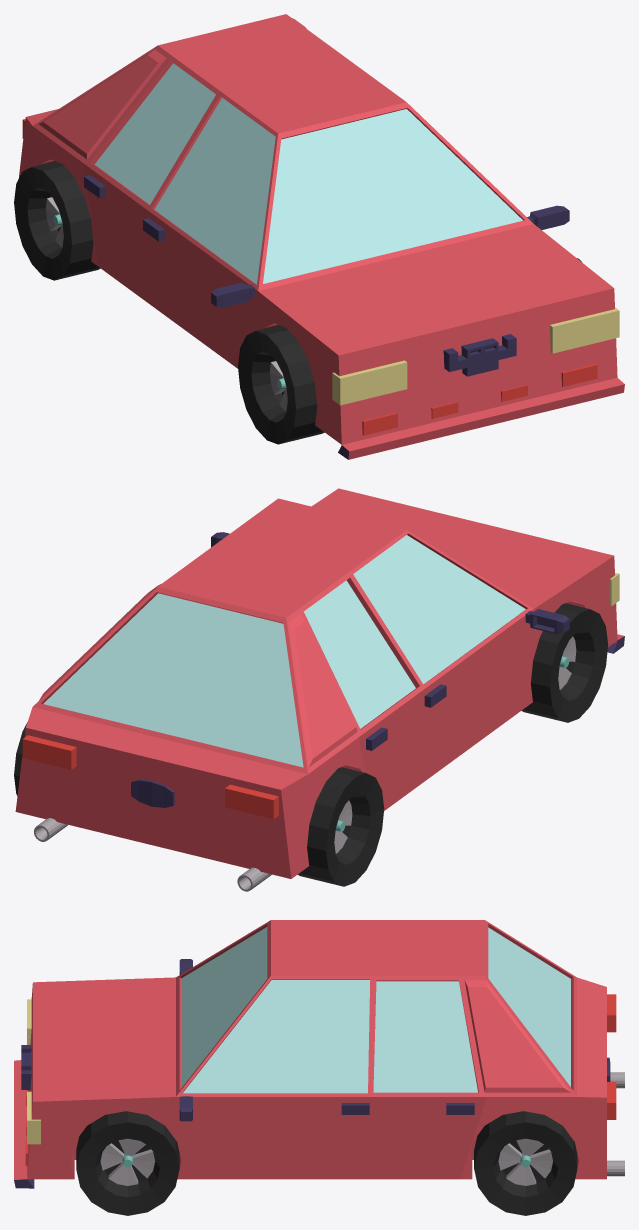
Rendered from Car3.fbx.
3 views of the same model, one above another, from view 1: azimuth 30°, elevation 25°; view 2: azimuth 150°, elevation 25°; view 3: azimuth 270°, elevation 25° (orthographic). The views are drawn at different scales.
Parts seen in each view (by area): view 1: Car3, RR_C3, FL_C3; view 2: Car3, RR_C3, FL_C3; view 3: Car3, FR_C3, RL_C3.
Boxes of the visible parts, x1,y1,x2,y2 form: Car3: [18, 14, 624, 459]; RR_C3: [14, 161, 100, 280]; FL_C3: [238, 325, 324, 444]; Car3: [15, 488, 624, 891]; RR_C3: [297, 767, 384, 886]; FL_C3: [521, 603, 608, 722]; Car3: [14, 920, 624, 1188]; FR_C3: [76, 1111, 179, 1215]; RL_C3: [474, 1111, 577, 1215].
Bounding box in the file's own units: 189 × 115 × 319.
